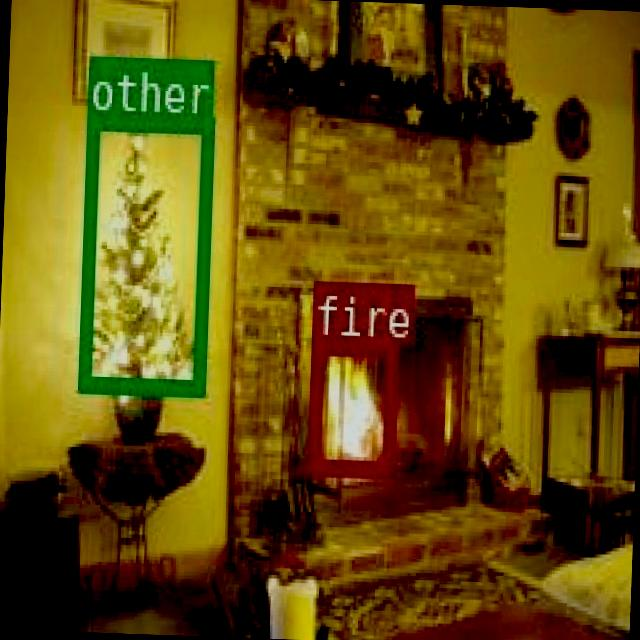fire: (306, 336, 396, 472)
